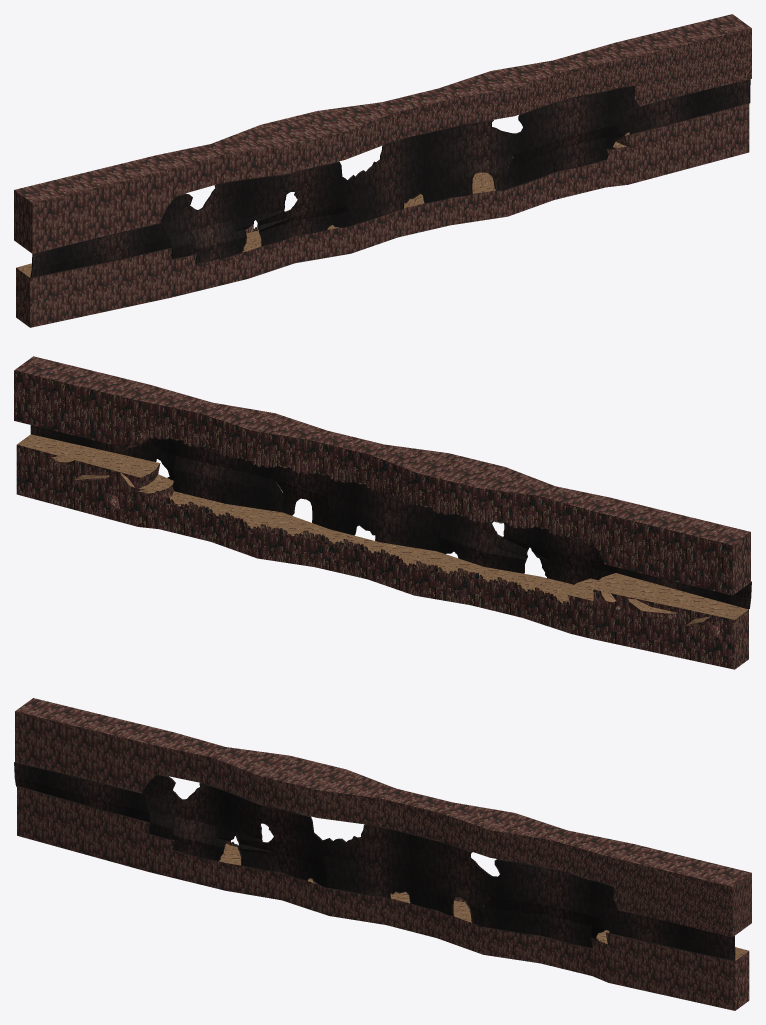
File: Area01_Room02.fbx
The picture shows the model from 3 angles, top to bottom: view 1: azimuth 30°, elevation 25°; view 2: azimuth 150°, elevation 25°; view 3: azimuth 330°, elevation 25°; orthographic projection.
Parts seen in each view (by area): view 1: polySurface345; view 2: polySurface345; view 3: polySurface345.
Boxes of the visible parts, bbox=[...] form: polySurface345: bbox=[14, 14, 751, 327]; polySurface345: bbox=[14, 356, 751, 669]; polySurface345: bbox=[14, 698, 751, 1010].
Bounding box in the file's own units: 29.4 × 4.92 × 2.26.
